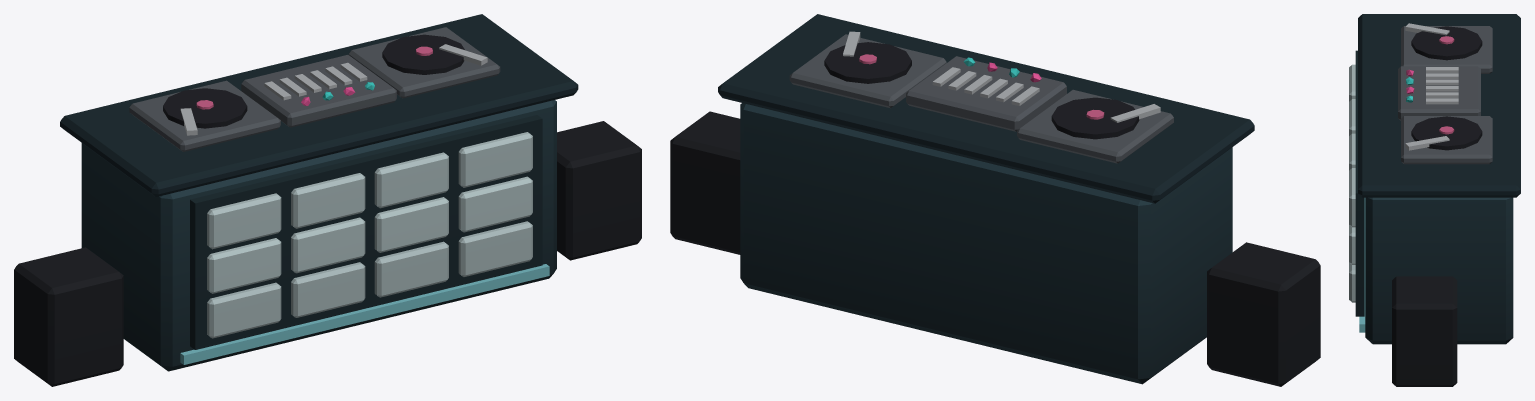
The model's file is club_dj_booth.glb.
The picture shows the model from 3 angles, left to right: view 1: azimuth 30°, elevation 25°; view 2: azimuth 150°, elevation 25°; view 3: azimuth 270°, elevation 25°; orthographic projection. The views are drawn at different scales.
Visible parts, largest first — view 1: club_dj_booth; view 2: club_dj_booth; view 3: club_dj_booth.
Part boxes in pixels (left/top/right/bottom): club_dj_booth: left=14, top=14, right=641, bottom=386; club_dj_booth: left=670, top=14, right=1320, bottom=386; club_dj_booth: left=1349, top=14, right=1520, bottom=386.
Bounding box in the file's own units: 3.9 × 1.38 × 1.16.
